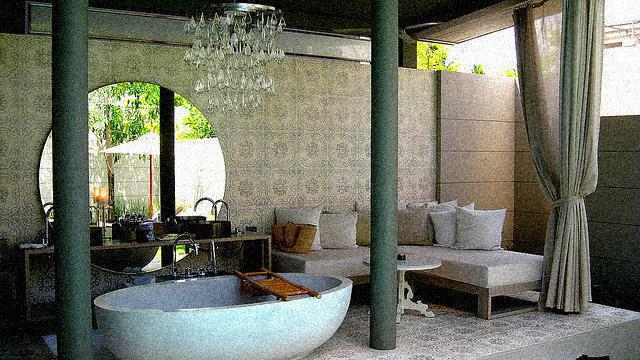Lavamanos: (19, 198, 97, 256), (174, 193, 232, 236)
